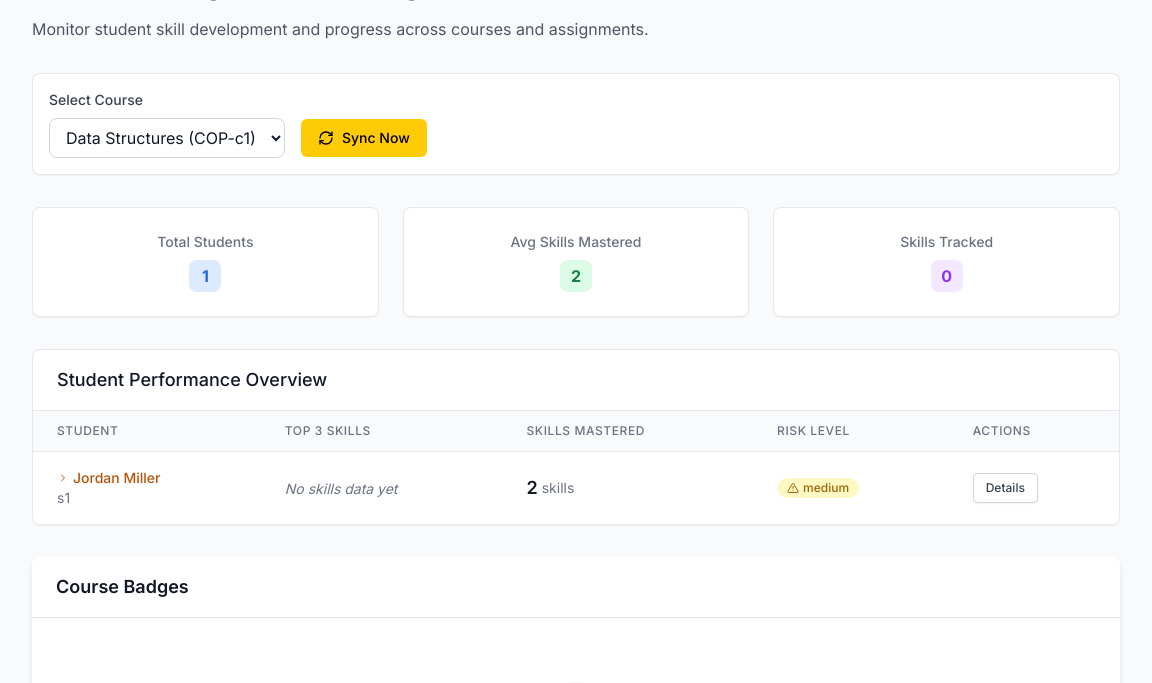
Test: instructor badge view › paging through a student's badges › cannot page past the first or last page
Click the button "Jordan Miller": point(109, 478) [57, 468, 160, 488]
(page scrolled)
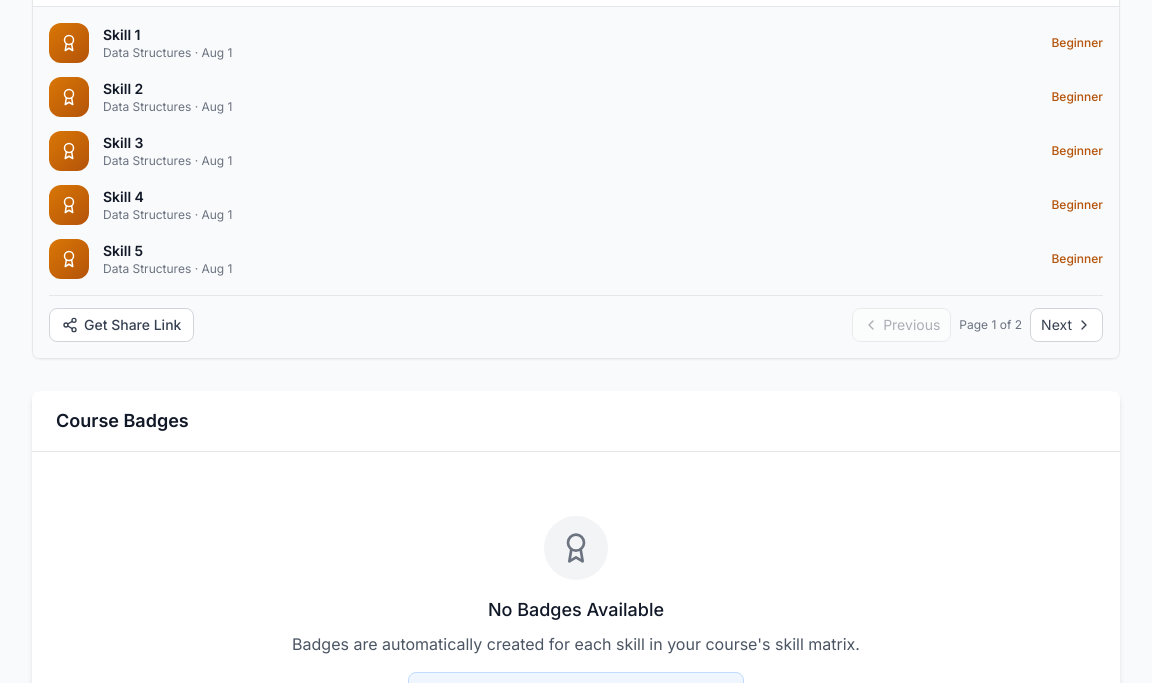
Expected: the text "Skill 1" is shown, [103, 26, 140, 43]
Expected: the button "Previous" is disabled, [852, 308, 951, 342]
Expected: the button "Next" is enabled
Click the button "Next": point(1067, 325) [1030, 308, 1103, 342]
(page scrolled)
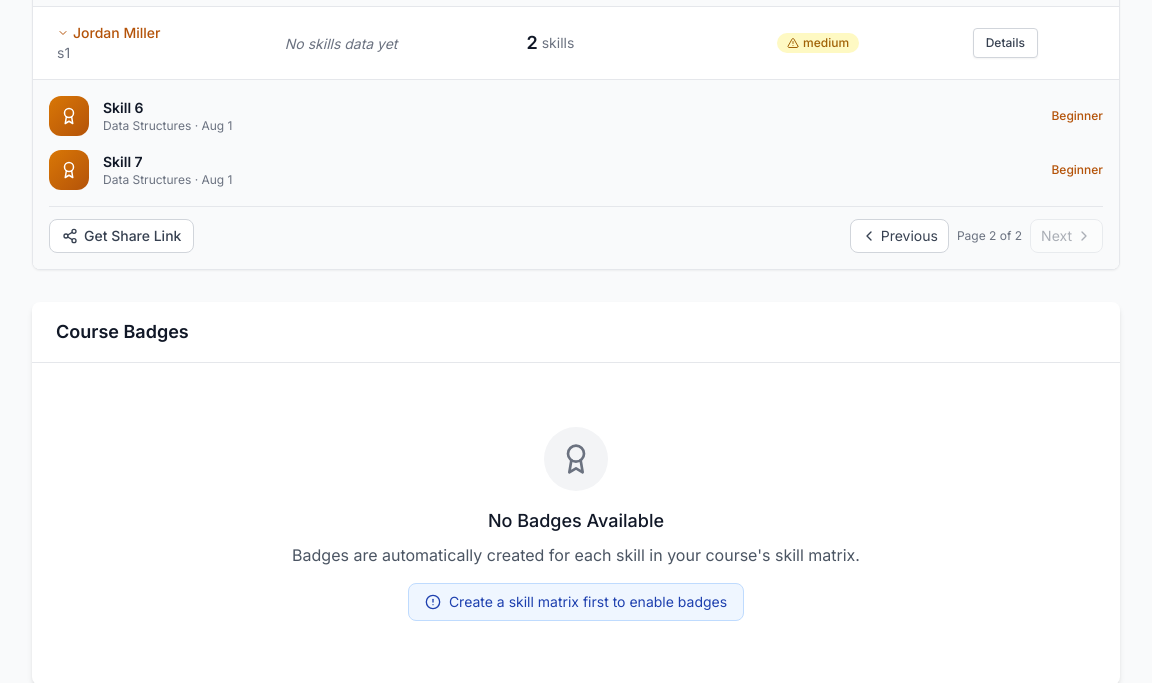
Expected: the text "Page 2 of 2" is shown, [957, 228, 1022, 244]
Expected: the button "Next" is disabled, [1030, 219, 1103, 253]
Expected: the button "Previous" is enabled, [850, 219, 949, 253]
